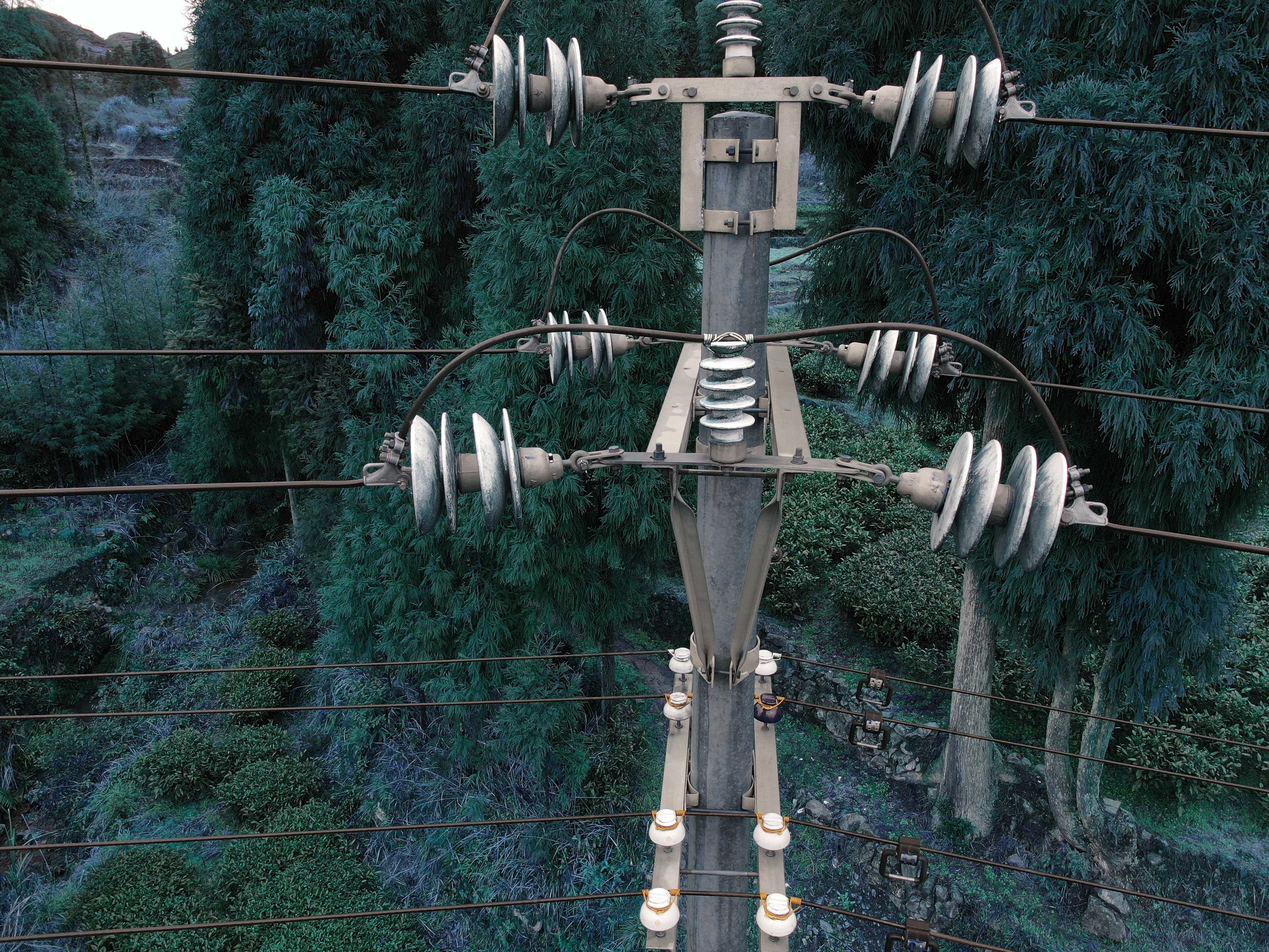severe_soiling_no_discharge_whole: (893, 430, 1071, 575), (403, 406, 567, 539), (860, 46, 1006, 174), (484, 30, 616, 152), (694, 336, 757, 462), (540, 306, 636, 387), (834, 332, 939, 404), (712, 2, 765, 77)
